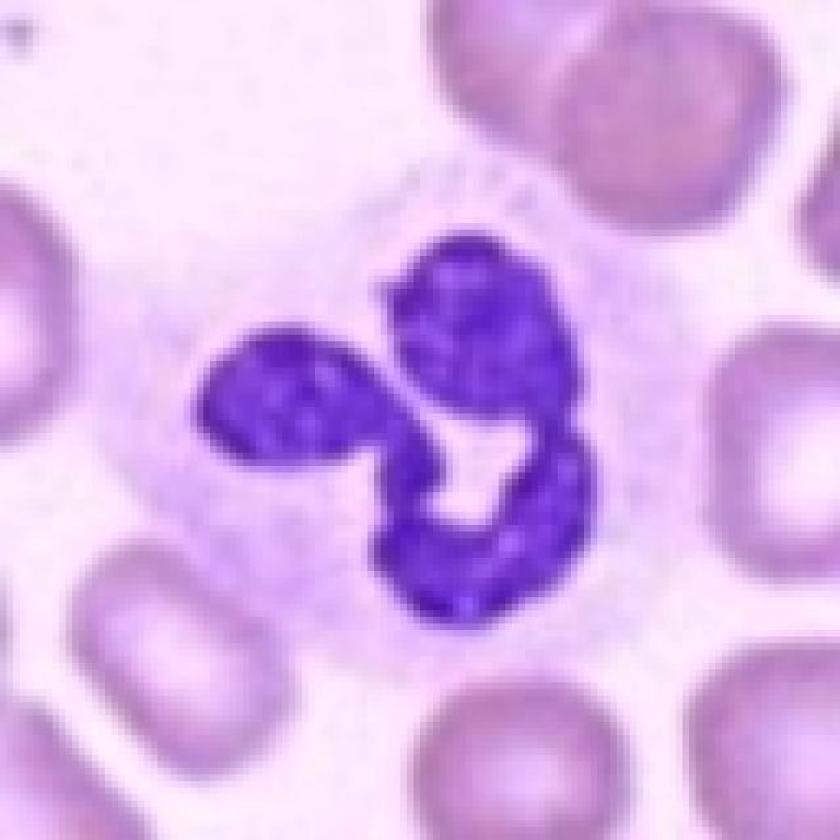neutrophil: (98, 150, 711, 701)
